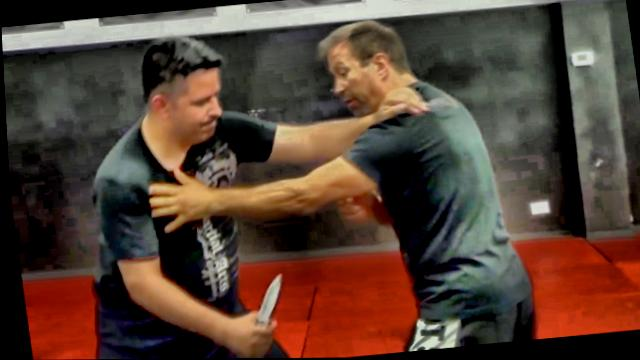knife: (224, 269, 293, 359)
